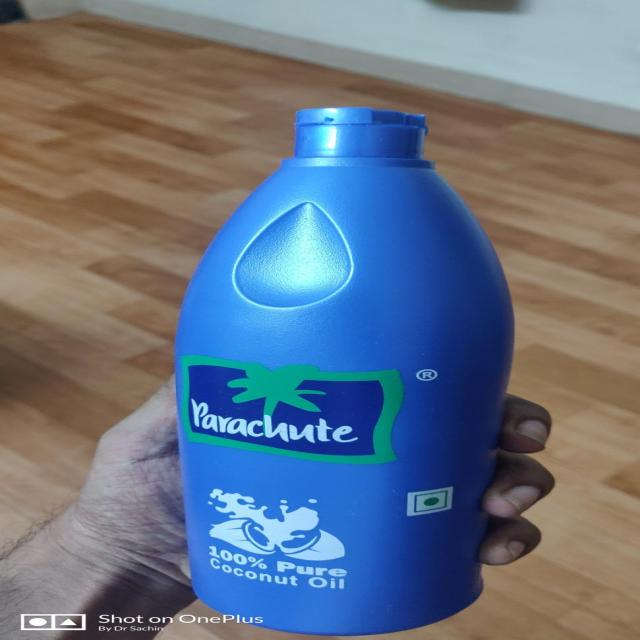parachute_oil: (139, 92, 536, 637)
